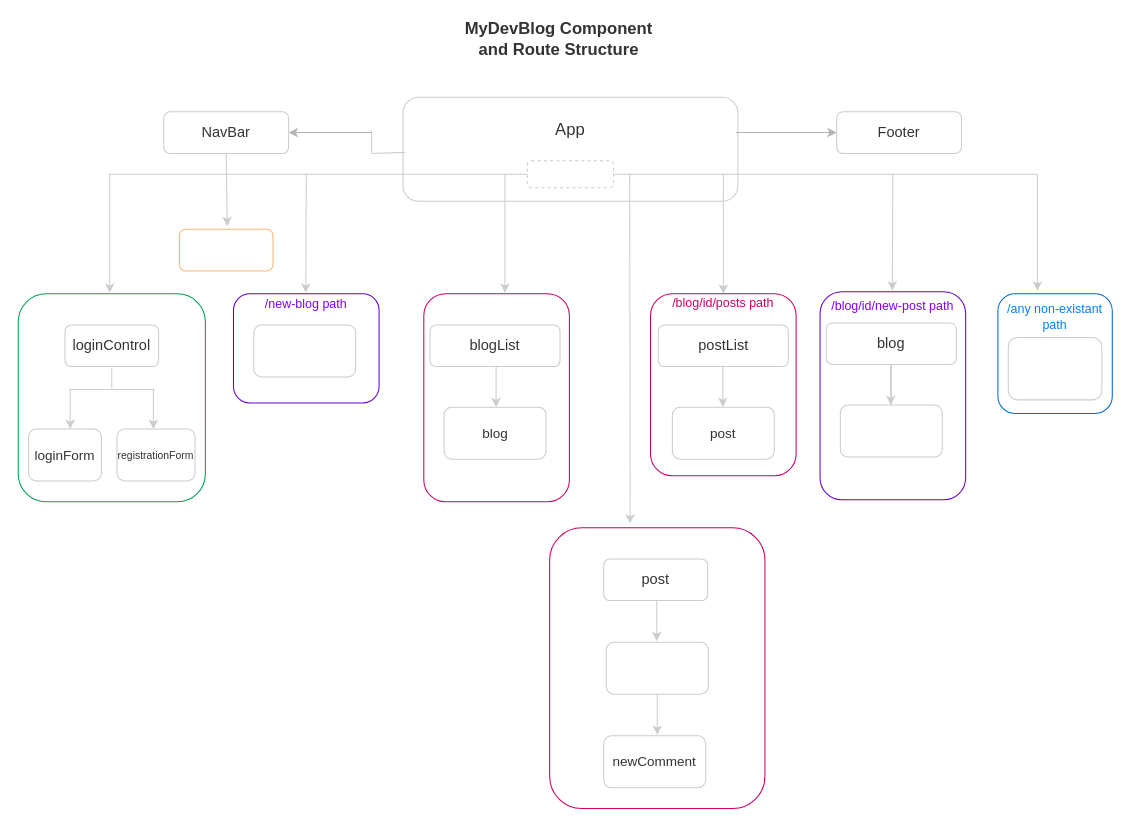
Image size: 1130x827. Some labels were removed from this diagram. The box of each missing label's shape, as (x1, y1, x2, y2) in pixels:
/ path: (423, 293, 569, 502)
/blog/id/posts/id path: (549, 527, 765, 809)
/login path: (17, 293, 205, 502)
comments: (605, 641, 708, 694)
Error 404: (1007, 336, 1102, 400)
newBlogForm: (253, 324, 356, 377)
newPostForm: (839, 404, 942, 457)
Routes: (526, 160, 614, 188)
searchBox: (178, 228, 273, 271)
